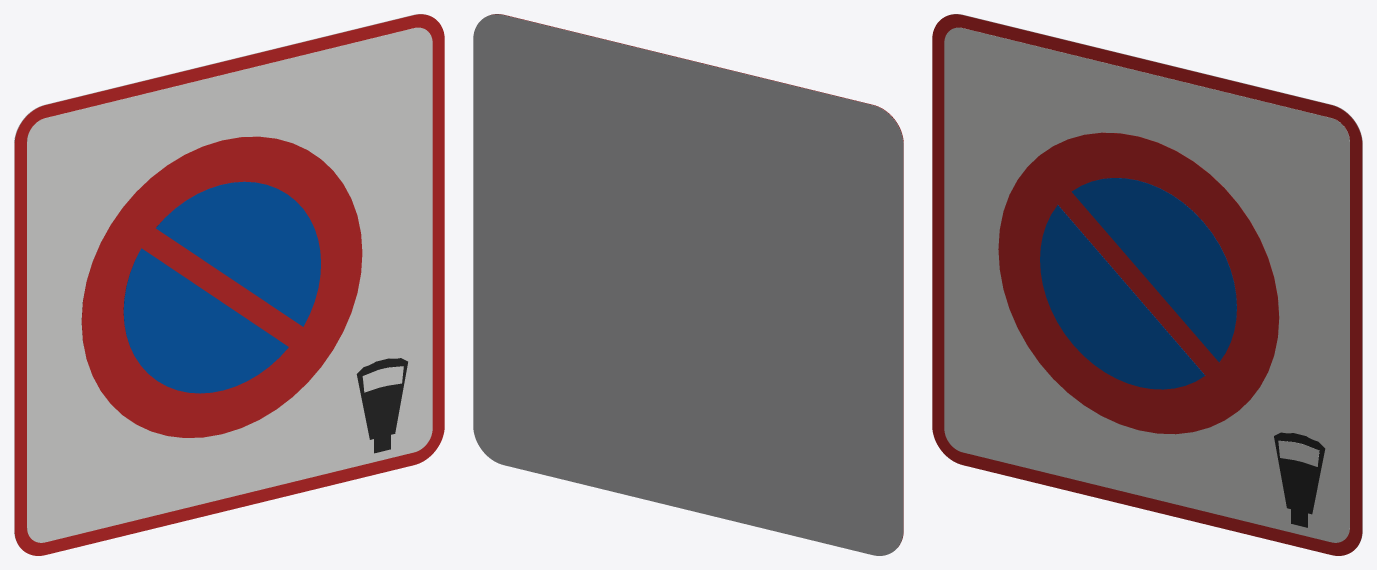
3 views of the same model, side by side, from view 1: azimuth 30°, elevation 25°; view 2: azimuth 150°, elevation 25°; view 3: azimuth 330°, elevation 25° (orthographic).
Parts seen in each view (by area): view 1: B6b4_p01, B6b4_p03, B6b4_p00, B6b4_p07, B6b4_p05, B6b4_p02, B6b4_dos, B6b4_p08; view 2: B6b4_dos, B6b4_p00; view 3: B6b4_p01, B6b4_p03, B6b4_p00, B6b4_p05, B6b4_p07, B6b4_p02, B6b4_dos, B6b4_p08.
Part boxes in pixels (x1,y1,x2,y2): B6b4_p01: (27,27,432,542); B6b4_p03: (81,136,362,437); B6b4_p00: (14,14,444,555); B6b4_p07: (156,181,320,326); B6b4_p05: (123,248,288,393); B6b4_p02: (356,358,407,453); B6b4_dos: (14,14,426,546); B6b4_p08: (362,366,403,392); B6b4_dos: (473,14,903,555); B6b4_p00: (491,14,903,546); B6b4_p01: (944,27,1349,542); B6b4_p03: (998,132,1279,434); B6b4_p00: (932,14,1362,555); B6b4_p05: (1040,205,1205,389); B6b4_p07: (1071,178,1236,362); B6b4_p02: (1274,432,1325,527); B6b4_dos: (950,14,1362,546); B6b4_p08: (1278,440,1319,466).
Bounding box in the file's own units: 0.85 × 0.8498 × 0.0051.
